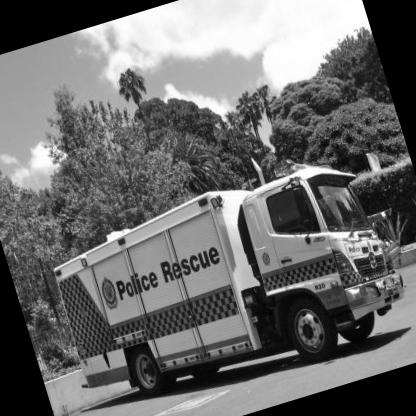ambulance: (32, 131, 416, 416)
